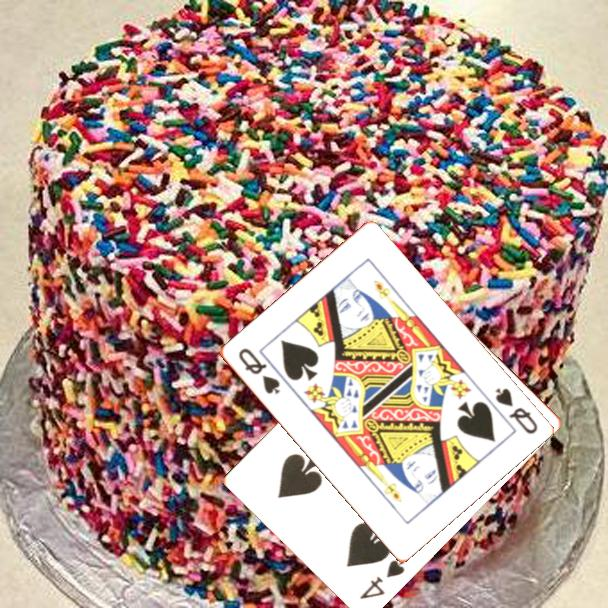s04: (356, 556, 408, 602)
s12: (234, 344, 283, 397), (491, 384, 540, 437)
